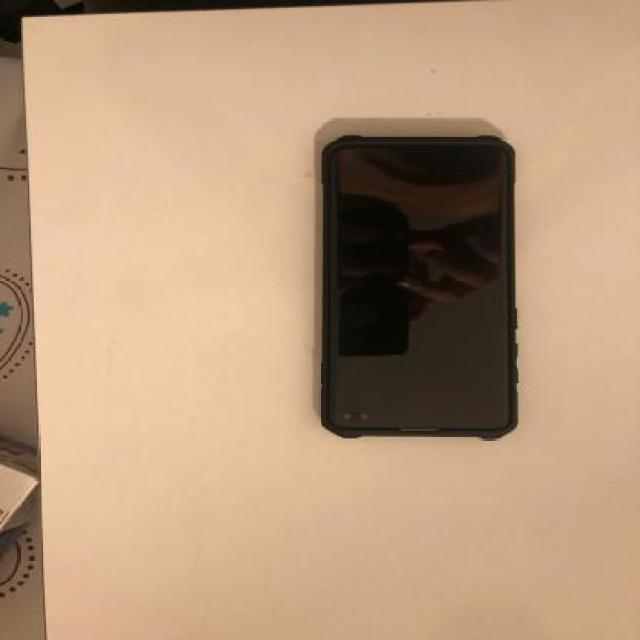phone: (316, 132, 519, 440)
